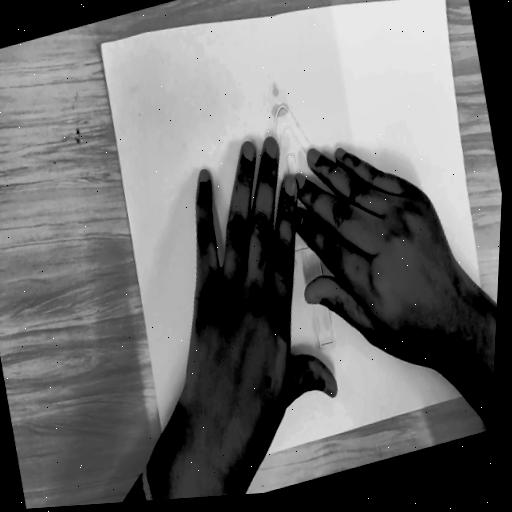bottom_left: (487, 375, 494, 395)
bottom_right: (158, 454, 176, 479)
signboard: (229, 86, 379, 372)
top_left: (436, 0, 450, 4)
top_right: (93, 35, 107, 54)
